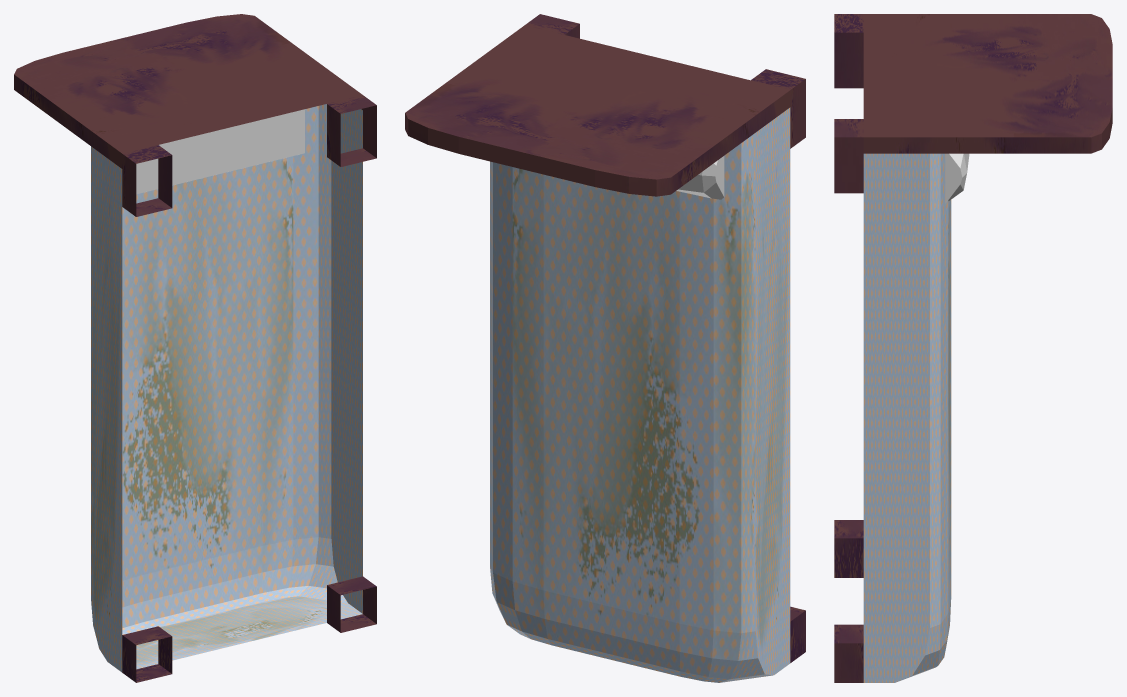
File: Cama.fbx
3 renders of one model, left to right at view 1: azimuth 30°, elevation 25°; view 2: azimuth 150°, elevation 25°; view 3: azimuth 270°, elevation 25°, orthographic. The views are drawn at different scales.
Visible parts, largest first — view 1: Cama, Almohada.001; view 2: Cama, Almohada.001; view 3: Cama, Almohada.001.
Boxes of the visible parts, x1,y1,x2,y2 form: Cama: (14, 14, 376, 682); Almohada.001: (136, 109, 304, 194); Cama: (405, 14, 805, 682); Almohada.001: (676, 156, 724, 199); Cama: (834, 14, 1112, 682); Almohada.001: (945, 153, 969, 203).
Bounding box in the file's own units: 100 × 206 × 95.25.
